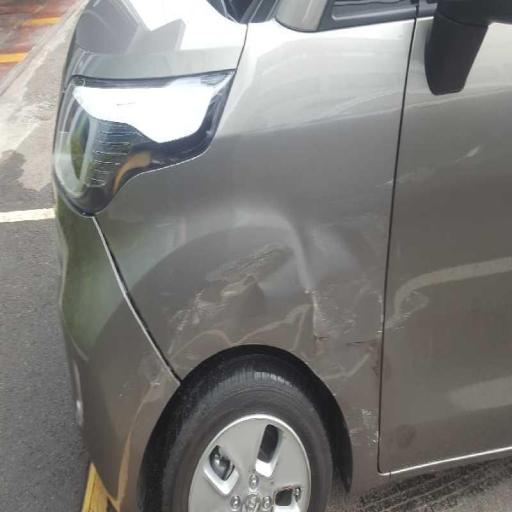scratch: (130, 188, 413, 435)
